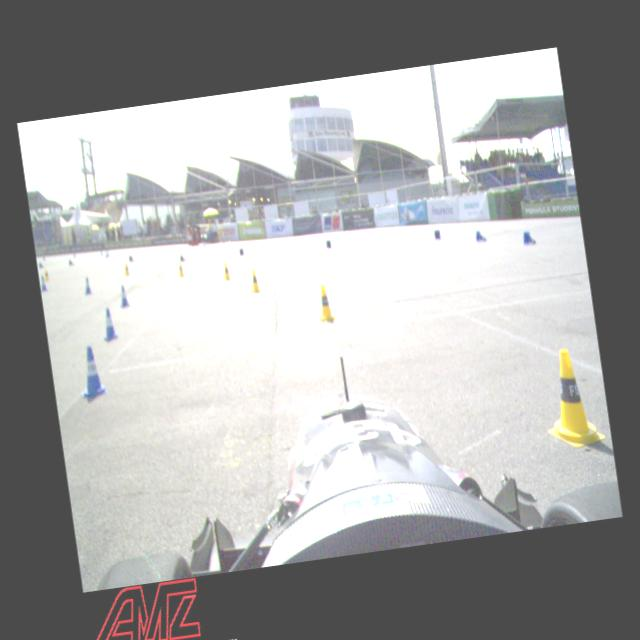blue_cone: (76, 344, 108, 402), (99, 306, 119, 344), (117, 284, 130, 310), (521, 230, 537, 247), (81, 275, 92, 296), (476, 228, 488, 244), (39, 274, 47, 291), (178, 252, 186, 262), (68, 258, 74, 266)
yellow_cone: (536, 344, 608, 453), (314, 282, 338, 325), (248, 268, 262, 294), (222, 262, 232, 282), (177, 262, 186, 278), (43, 267, 51, 283), (123, 262, 131, 276)
